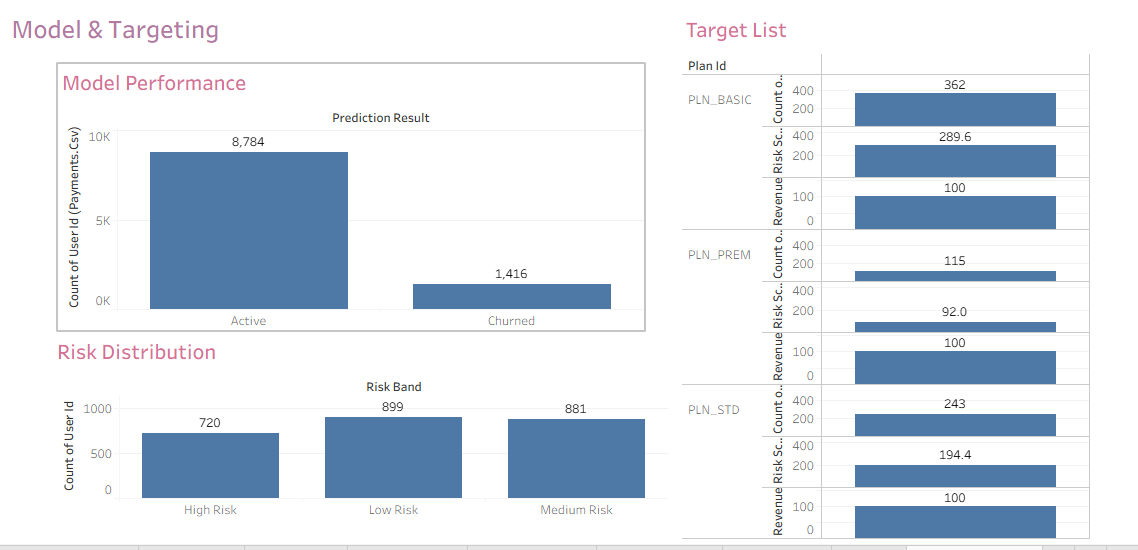

Layout of this report page (visuals, bound fields, positions):
{"tool":"tableau","page":{"name":"Model & Targeting","canvas":[1000,1000],"units":"permille","ordinal":3},"visuals":[{"type":"title","box":[7,14.7,986,75.4]},{"type":"worksheet","title":"Target List","mark":"Automatic","rows":["plan_id","user_id","Calculation_774056233023967248","Calculation_774056233024241681"],"box":[600.4,20.2,357.6,972.4]},{"type":"worksheet","title":"Model Performance","mark":"Automatic","rows":["user_id (payments.csv)"],"cols":["Calculation_774056233022390286"],"box":[53.5,117.7,513.6,489]},{"type":"worksheet","title":"Risk Distribution","mark":"Automatic","rows":["user_id"],"cols":["Calculation_774056233023156239"],"box":[49.1,612.1,539,376.8]}]}

Visuals, with their boxes on the dashboard's canvas, which has no fixed pixel size, in thousandths of its width and height (x1, y1, x2, y2). These are canvas units, not pixel positions in the 1138x550 screenshot, which may show the page scaled, cropped or inside an application window:
title: 7,15,993,90
"Target List" worksheet: 600,20,958,993
"Model Performance" worksheet: 54,118,567,607
"Risk Distribution" worksheet: 49,612,588,989
